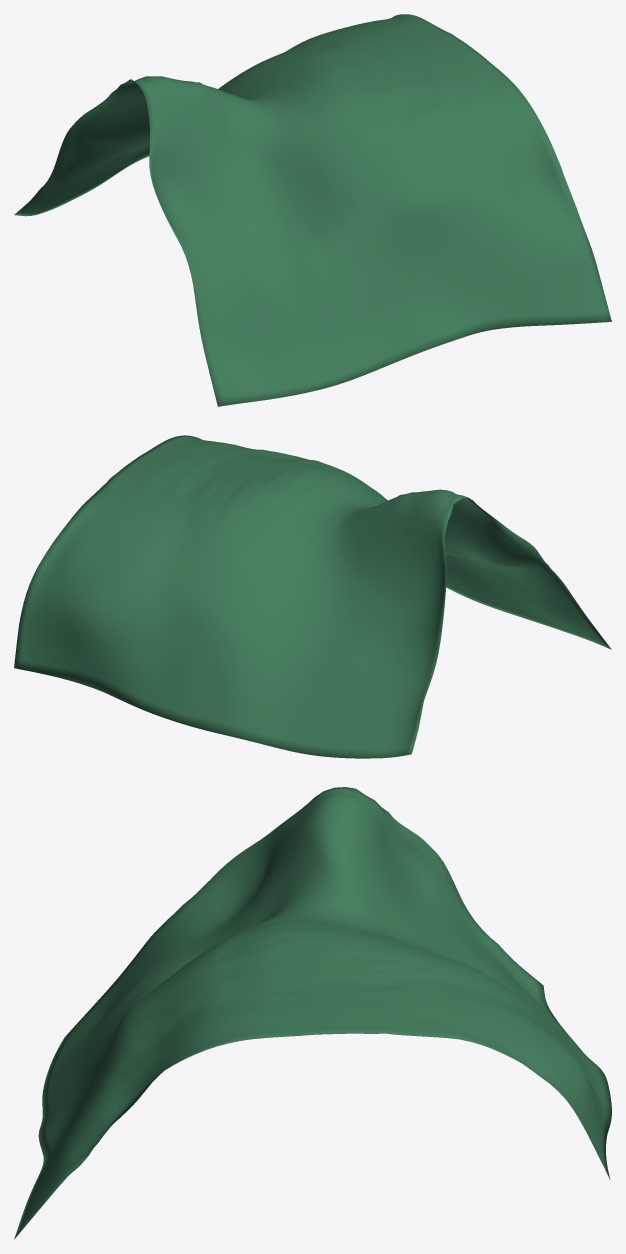
The model's file is SurgicalCover.fbx.
The picture shows the model from 3 angles, top to bottom: view 1: azimuth 30°, elevation 25°; view 2: azimuth 150°, elevation 25°; view 3: azimuth 270°, elevation 25°; orthographic projection. The views are drawn at different scales.
Visible parts, largest first — view 1: SurgicalCover; view 2: SurgicalCover; view 3: SurgicalCover.
Boxes of the visible parts, <box> form: SurgicalCover: <box>14,14,611,406</box>; SurgicalCover: <box>14,435,611,758</box>; SurgicalCover: <box>14,787,611,1239</box>.
Bounding box in the file's own units: 12.41 × 7.26 × 14.45.
